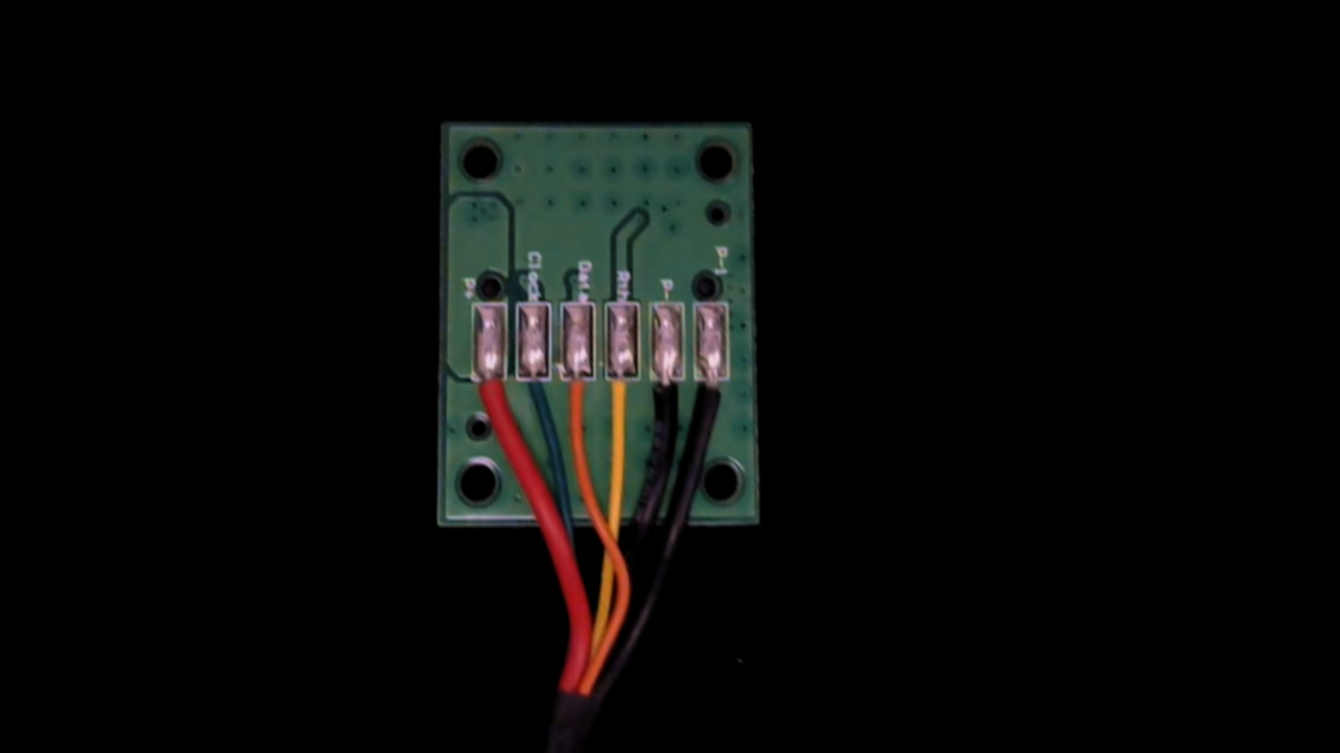Black: (648, 352, 690, 443)
Black1: (695, 355, 735, 439)
Green: (516, 355, 553, 430)
Orange: (561, 356, 599, 445)
Red: (470, 357, 509, 444)
Yellow: (600, 355, 640, 447)
